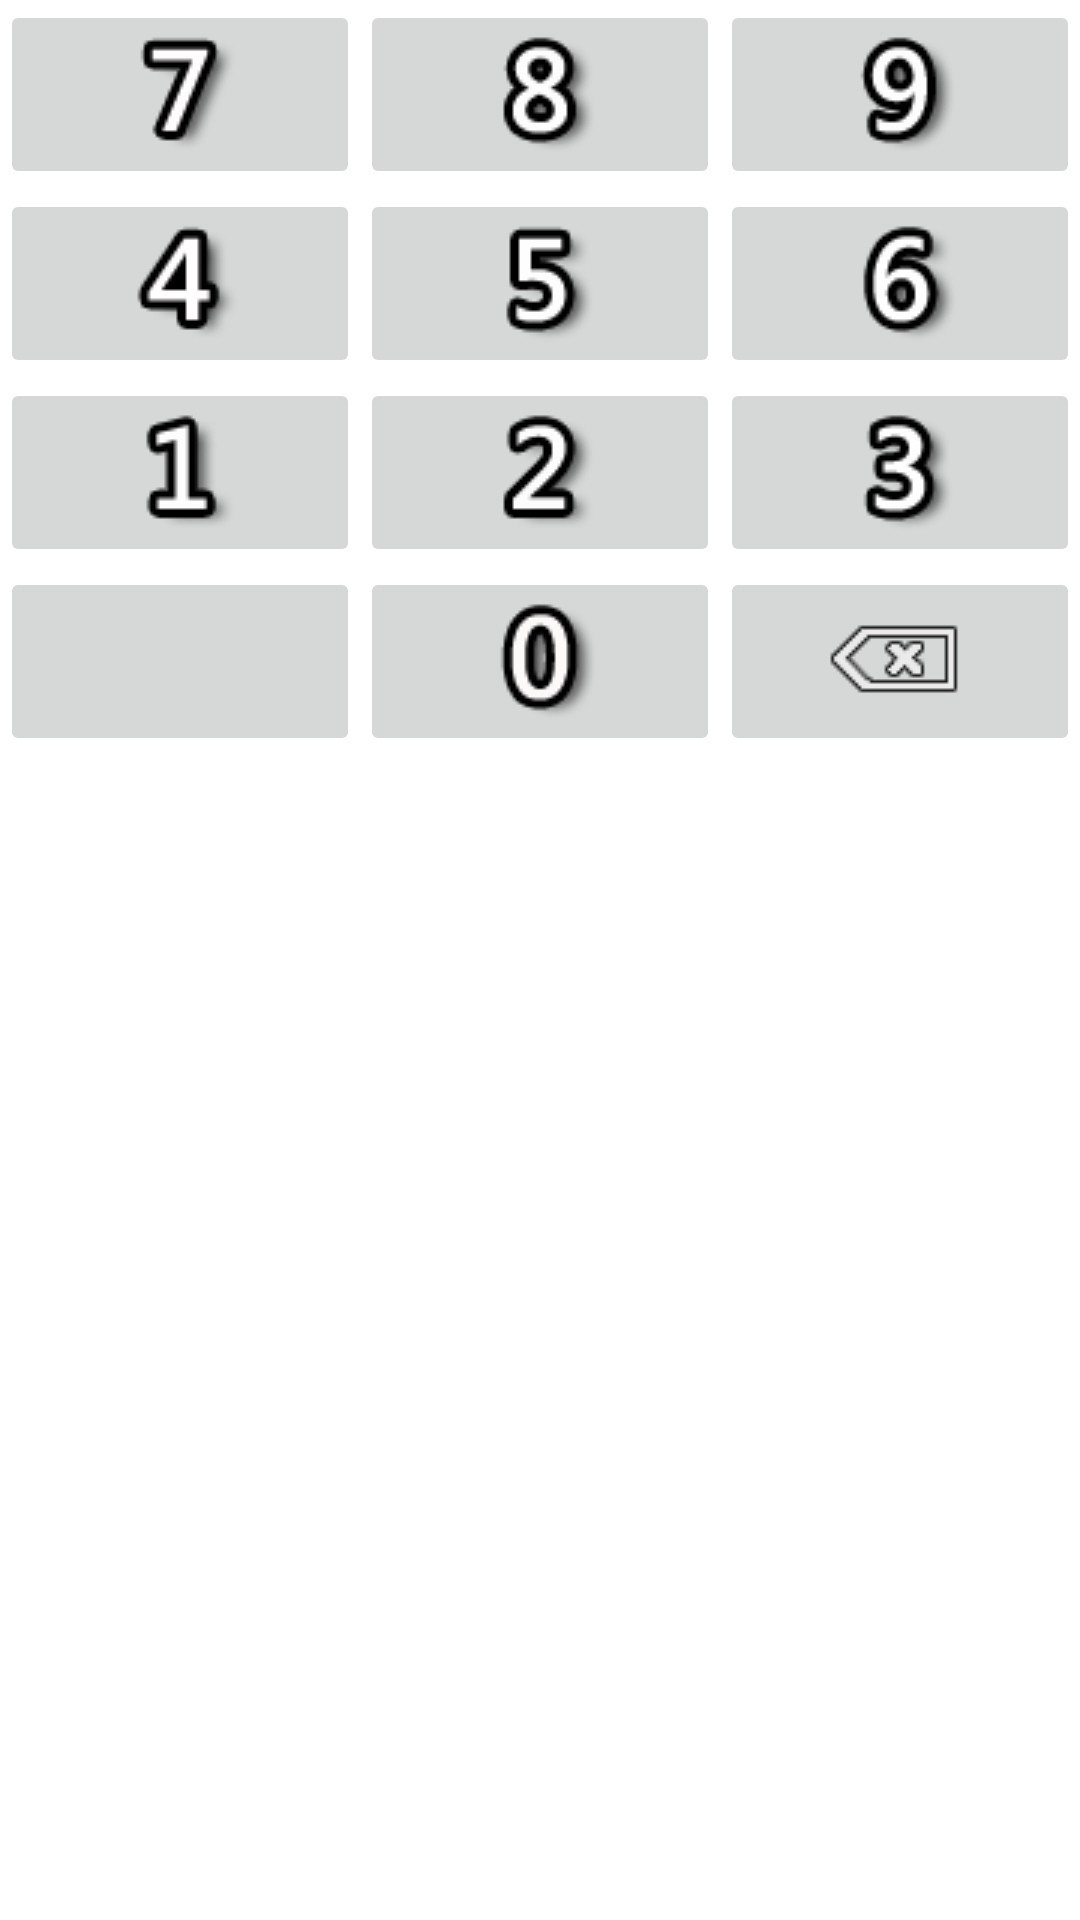

Icon bounding boxes for this 1080*1920 phone screenshot, format (x1, y1, x2, y2):
digits back: (732, 585, 1068, 738)
